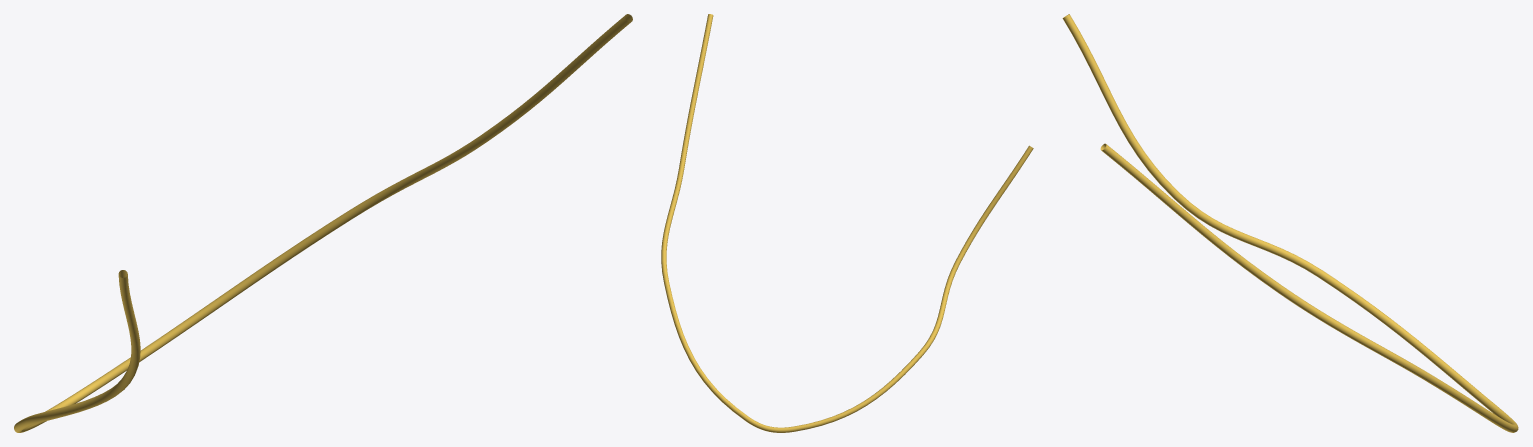
File: Superior_lateral_brachial_cutaneous_nerve_left.glb
3 views of the same model, side by side, from view 1: azimuth 30°, elevation 25°; view 2: azimuth 150°, elevation 25°; view 3: azimuth 270°, elevation 25° (orthographic). The views are drawn at different scales.
Visible parts, largest first — view 1: Superior_lateral_brachial_cutaneous_nerve.l_BezierCurve.410; view 2: Superior_lateral_brachial_cutaneous_nerve.l_BezierCurve.410; view 3: Superior_lateral_brachial_cutaneous_nerve.l_BezierCurve.410.
Part boxes in pixels (x1,y1,x2,y2): Superior_lateral_brachial_cutaneous_nerve.l_BezierCurve.410: [14, 14, 632, 432]; Superior_lateral_brachial_cutaneous_nerve.l_BezierCurve.410: [661, 14, 1033, 432]; Superior_lateral_brachial_cutaneous_nerve.l_BezierCurve.410: [1062, 14, 1518, 432].
Size of the model in its own units: 0.0666 by 0.0561 by 0.0544.
